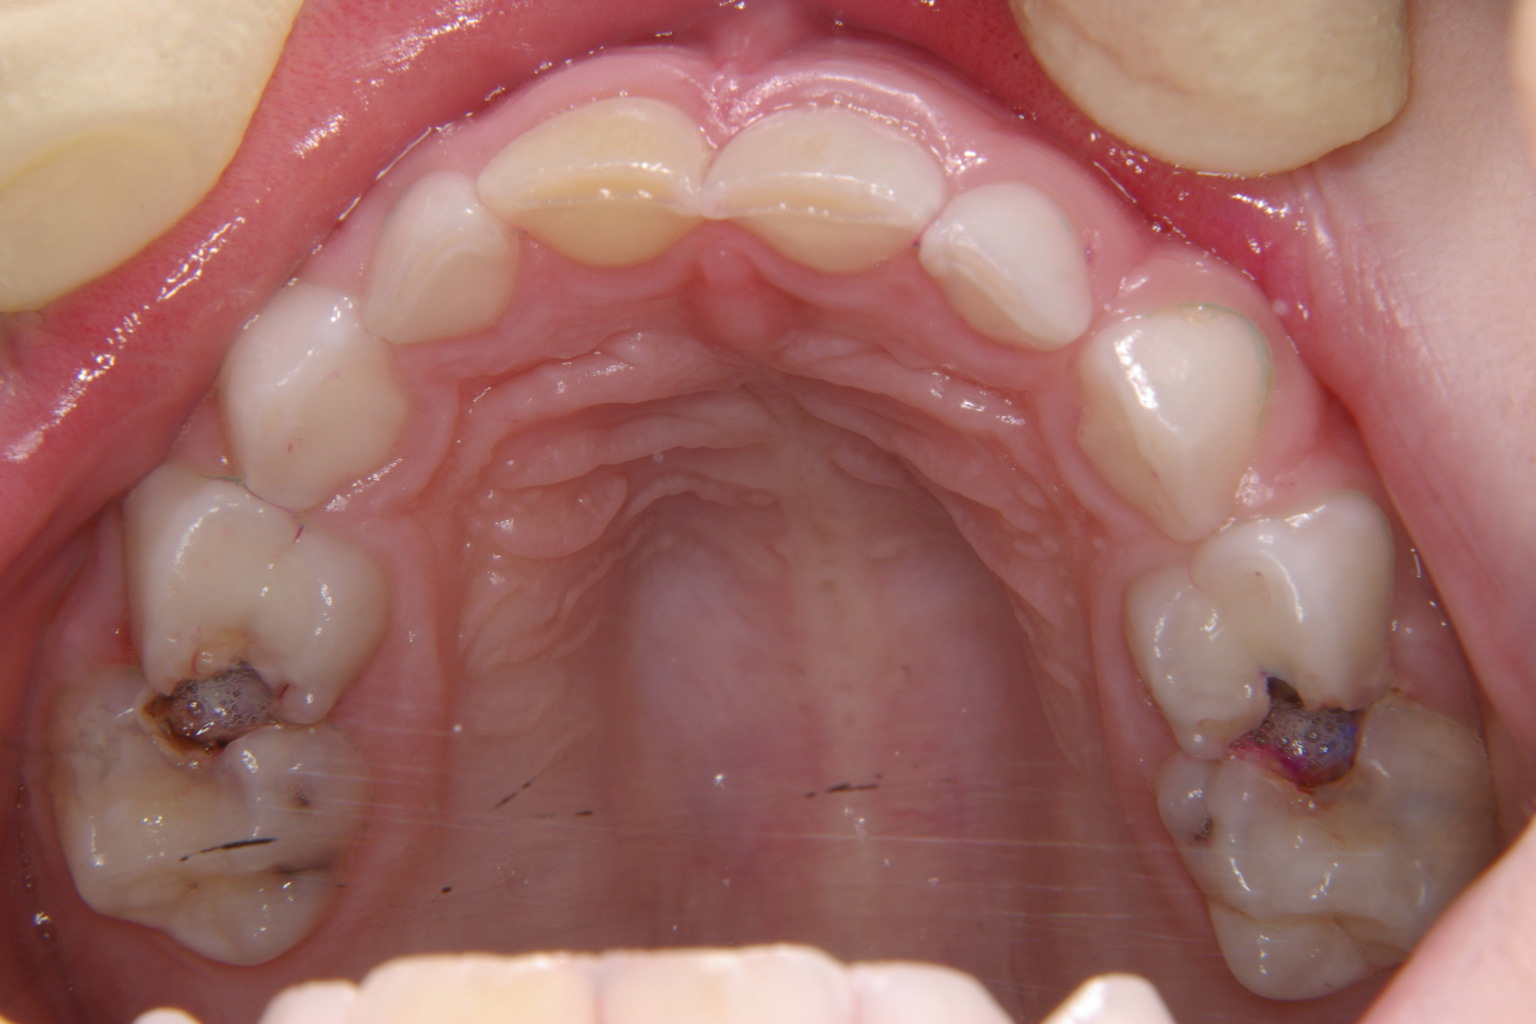UL1BC_decay: (1136, 534, 1387, 735)
UL2BC_decay: (1166, 741, 1493, 970)
ULCI_healthy: (713, 94, 928, 280)
ULC_healthy: (1083, 310, 1266, 537)
ULLI_healthy: (925, 178, 1098, 347)
UR1BC_decay: (113, 485, 363, 734)
UR2BC_decay: (61, 715, 357, 959)
URCI_healthy: (501, 99, 709, 261)
URC_healthy: (233, 299, 395, 504)
URLI_healthy: (360, 176, 517, 339)
